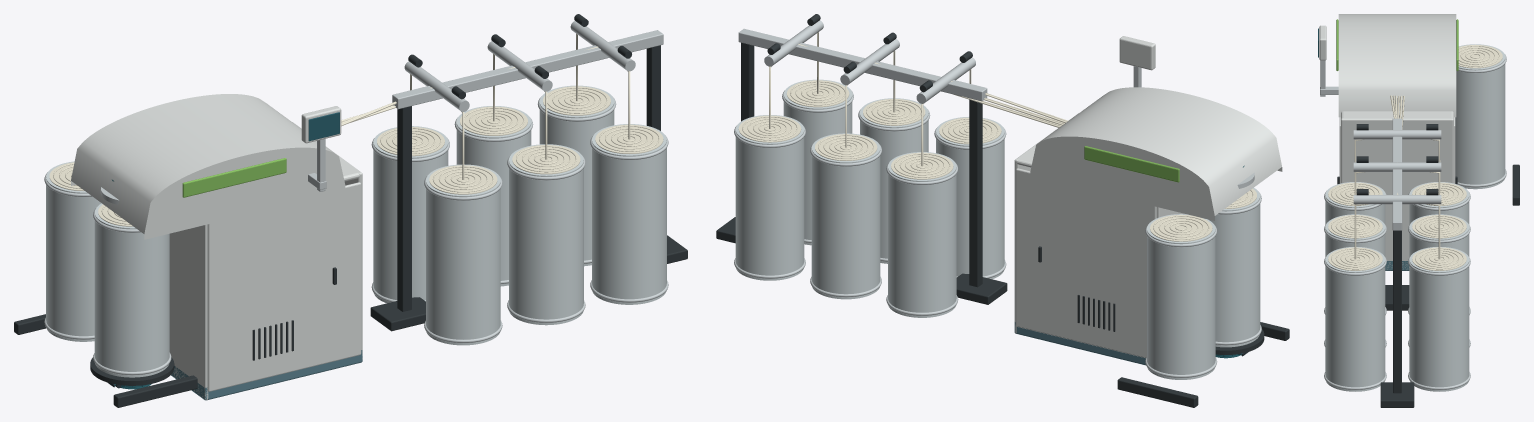
The model's file is jingwei_jwf1366pro.glb.
The picture shows the model from 3 angles, left to right: view 1: azimuth 30°, elevation 25°; view 2: azimuth 150°, elevation 25°; view 3: azimuth 270°, elevation 25°; orthographic projection. The views are drawn at different scales.
Parts seen in each view (by area): view 1: JW1366_drive_body_door_panel, JW1366_curved_cover, JW1366_feed_can_01_body, JW1366_feed_can_03_body, JW1366_feed_can_05_body, JW1366_active_can_body, JW1366_hood_side, JW1366_spare_can_body, JW1366_feed_can_02_body, JW1366_drive_body_end, JW1366_creel_beam, JW1366_feed_can_04_body (+18 smaller); view 2: JW1366_drive_body_door_panel.001, JW1366_curved_cover, JW1366_feed_can_04_body, JW1366_feed_can_06_body, JW1366_feed_can_02_body, JW1366_spare_can_body, JW1366_hood_side.001, JW1366_active_can_body, JW1366_feed_can_01_body, JW1366_creel_beam, JW1366_feed_can_05_body, JW1366_feed_can_03_body (+17 smaller); view 3: JW1366_curved_cover, JW1366_feed_can_05_body, JW1366_feed_can_06_body, JW1366_drive_body_end.001, JW1366_spare_can_body, JW1366_creel_post.001, JW1366_creel_beam, JW1366_feed_can_06_sliver_top, JW1366_feed_can_05_sliver_top, JW1366_feed_can_04_sliver_top, JW1366_feed_can_03_sliver_top, JW1366_feed_can_03_body (+24 smaller).
Boxes of the visible parts, bbox=[...] form: JW1366_drive_body_door_panel: bbox=[207, 182, 361, 391]; JW1366_curved_cover: bbox=[71, 94, 336, 233]; JW1366_feed_can_01_body: bbox=[426, 164, 500, 345]; JW1366_feed_can_03_body: bbox=[509, 144, 583, 325]; JW1366_feed_can_05_body: bbox=[592, 124, 666, 304]; JW1366_active_can_body: bbox=[94, 203, 169, 377]; JW1366_hood_side: bbox=[144, 147, 345, 239]; JW1366_spare_can_body: bbox=[46, 161, 101, 341]; JW1366_feed_can_02_body: bbox=[373, 126, 448, 303]; JW1366_drive_body_end: bbox=[169, 224, 208, 399]; JW1366_creel_beam: bbox=[392, 30, 663, 109]; JW1366_feed_can_04_body: bbox=[456, 106, 531, 286]; JW1366_drive_body_door_panel.001: bbox=[1016, 168, 1156, 358]; JW1366_curved_cover: bbox=[1039, 87, 1281, 215]; JW1366_feed_can_04_body: bbox=[811, 133, 880, 299]; JW1366_feed_can_06_body: bbox=[735, 115, 804, 280]; JW1366_feed_can_02_body: bbox=[888, 152, 956, 317]; JW1366_spare_can_body: bbox=[1147, 214, 1215, 379]; JW1366_hood_side.001: bbox=[1030, 136, 1214, 220]; JW1366_active_can_body: bbox=[1208, 188, 1260, 347]; JW1366_feed_can_01_body: bbox=[936, 117, 1004, 279]; JW1366_creel_beam: bbox=[738, 28, 987, 101]; JW1366_feed_can_05_body: bbox=[783, 79, 852, 245]; JW1366_feed_can_03_body: bbox=[860, 98, 928, 263]; JW1366_curved_cover: bbox=[1338, 14, 1456, 117]; JW1366_feed_can_05_body: bbox=[1325, 247, 1385, 391]; JW1366_feed_can_06_body: bbox=[1409, 247, 1469, 391]; JW1366_drive_body_end.001: bbox=[1341, 118, 1453, 269]; JW1366_spare_can_body: bbox=[1455, 44, 1505, 189]; JW1366_creel_post.001: bbox=[1393, 230, 1401, 393]; JW1366_creel_beam: bbox=[1392, 118, 1402, 230]; JW1366_feed_can_06_sliver_top: bbox=[1412, 247, 1466, 270]; JW1366_feed_can_05_sliver_top: bbox=[1328, 247, 1382, 270]; JW1366_feed_can_04_sliver_top: bbox=[1412, 215, 1466, 238]; JW1366_feed_can_03_sliver_top: bbox=[1328, 215, 1382, 238]; JW1366_feed_can_03_body: bbox=[1325, 214, 1385, 256].
Bounding box in the file's own units: 4.53 × 2.01 × 1.68.
